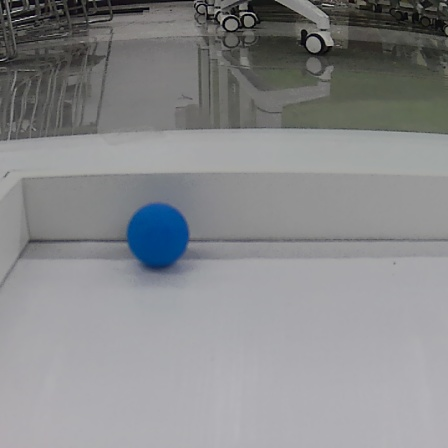blue: (125, 201, 190, 269)
